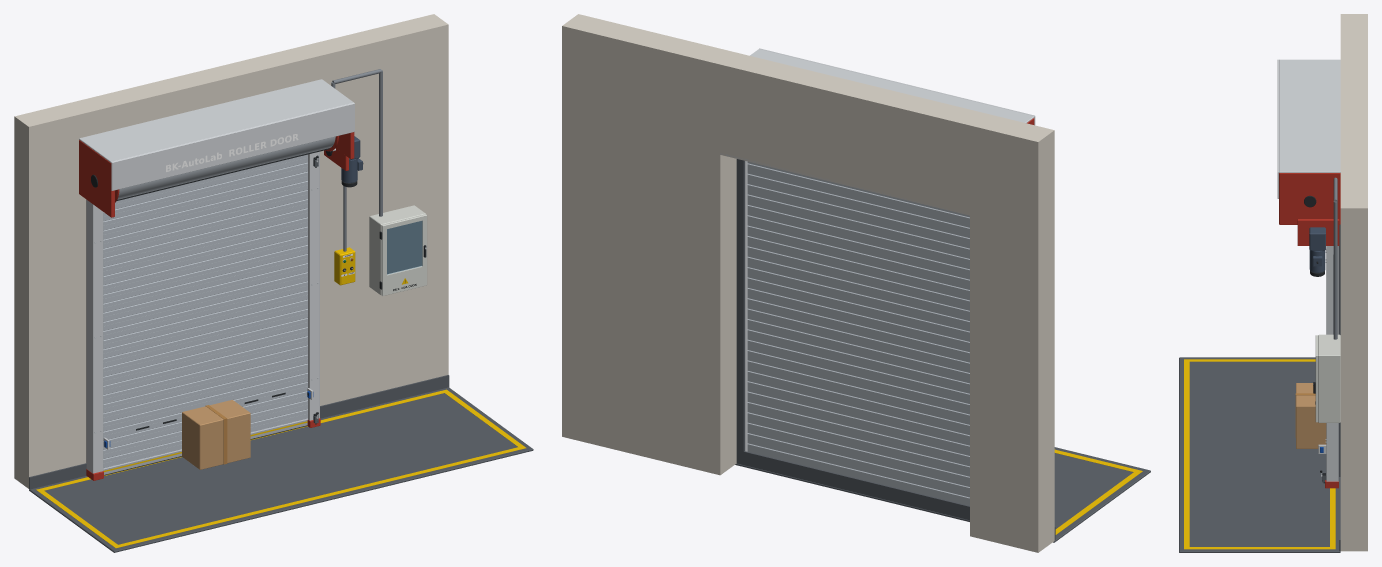
Rendered from motor.glb.
The picture shows the model from 3 angles, left to right: view 1: azimuth 30°, elevation 25°; view 2: azimuth 150°, elevation 25°; view 3: azimuth 270°, elevation 25°; orthographic projection. The views are drawn at different scales.
Parts seen in each view (by area): view 1: static_wall, door, static_base, static_inox, obstacle, static_warn, static_cabinet, static_accent, drum, static_black, glass_cabinet, static_duct; view 2: static_wall, door, static_base, static_inox, static_warn; view 3: static_base, static_wall, static_inox, static_accent, static_warn, static_cabinet, obstacle, static_duct, static_motor, static_black.
Part boxes in pixels (<box>): static_wall: <box>14,14,448,488</box>; door: <box>103,154,307,475</box>; static_base: <box>29,200,533,552</box>; static_inox: <box>79,79,354,473</box>; obstacle: <box>182,400,250,469</box>; static_warn: <box>36,247,526,548</box>; static_cabinet: <box>369,205,427,295</box>; static_accent: <box>79,132,354,480</box>; drum: <box>115,136,338,202</box>; static_black: <box>91,150,426,424</box>; glass_cabinet: <box>387,221,422,274</box>; static_duct: <box>331,69,382,251</box>; static_wall: <box>562,14,1054,552</box>; door: <box>747,161,969,505</box>; static_base: <box>735,159,1150,542</box>; static_inox: <box>720,48,1035,451</box>; static_warn: <box>1054,449,1142,534</box>; static_base: <box>1179,224,1340,552</box>; static_wall: <box>1340,14,1367,551</box>; static_inox: <box>1277,59,1340,481</box>; static_accent: <box>1279,173,1340,488</box>; static_warn: <box>1184,359,1335,549</box>; static_cabinet: <box>1315,334,1340,422</box>; obstacle: <box>1295,383,1326,448</box>; static_duct: <box>1333,177,1337,339</box>; static_motor: <box>1309,227,1325,272</box>; static_black: <box>1304,195,1325,483</box>.
Bounding box in the file's own units: 3.7 × 3.07 × 1.52.
